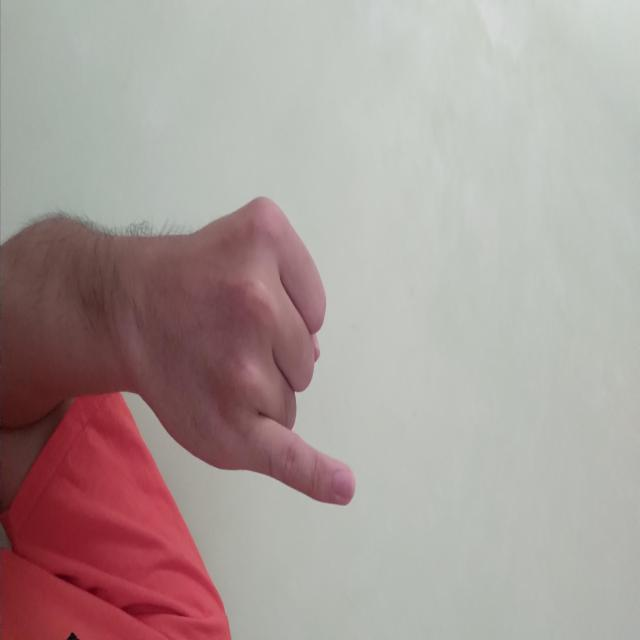J: (195, 283, 508, 512)
